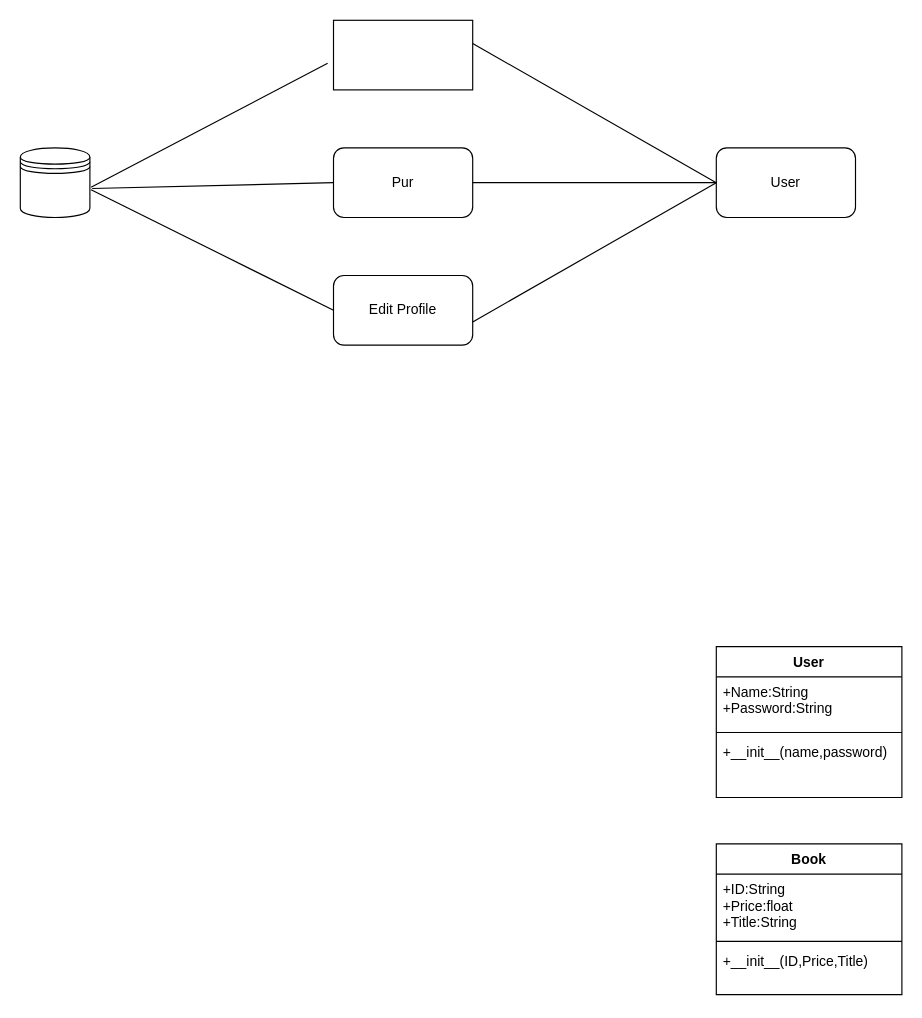
This 922x1018 diagram has some shape labels left out. Each missing label, with the centre of its shape:
"database" goes at [54,182].
"Select books view" goes at [402,54].
